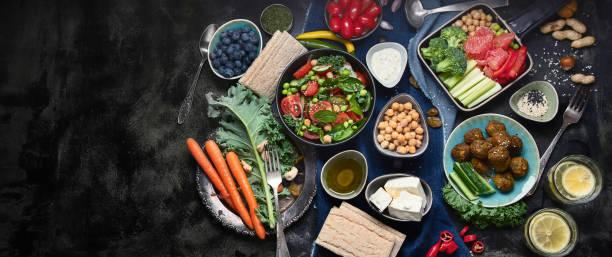Braised Crucian Carp: (193, 121, 311, 239), (417, 3, 533, 113), (275, 48, 373, 148), (442, 111, 539, 207), (372, 92, 430, 160), (207, 18, 262, 80)
